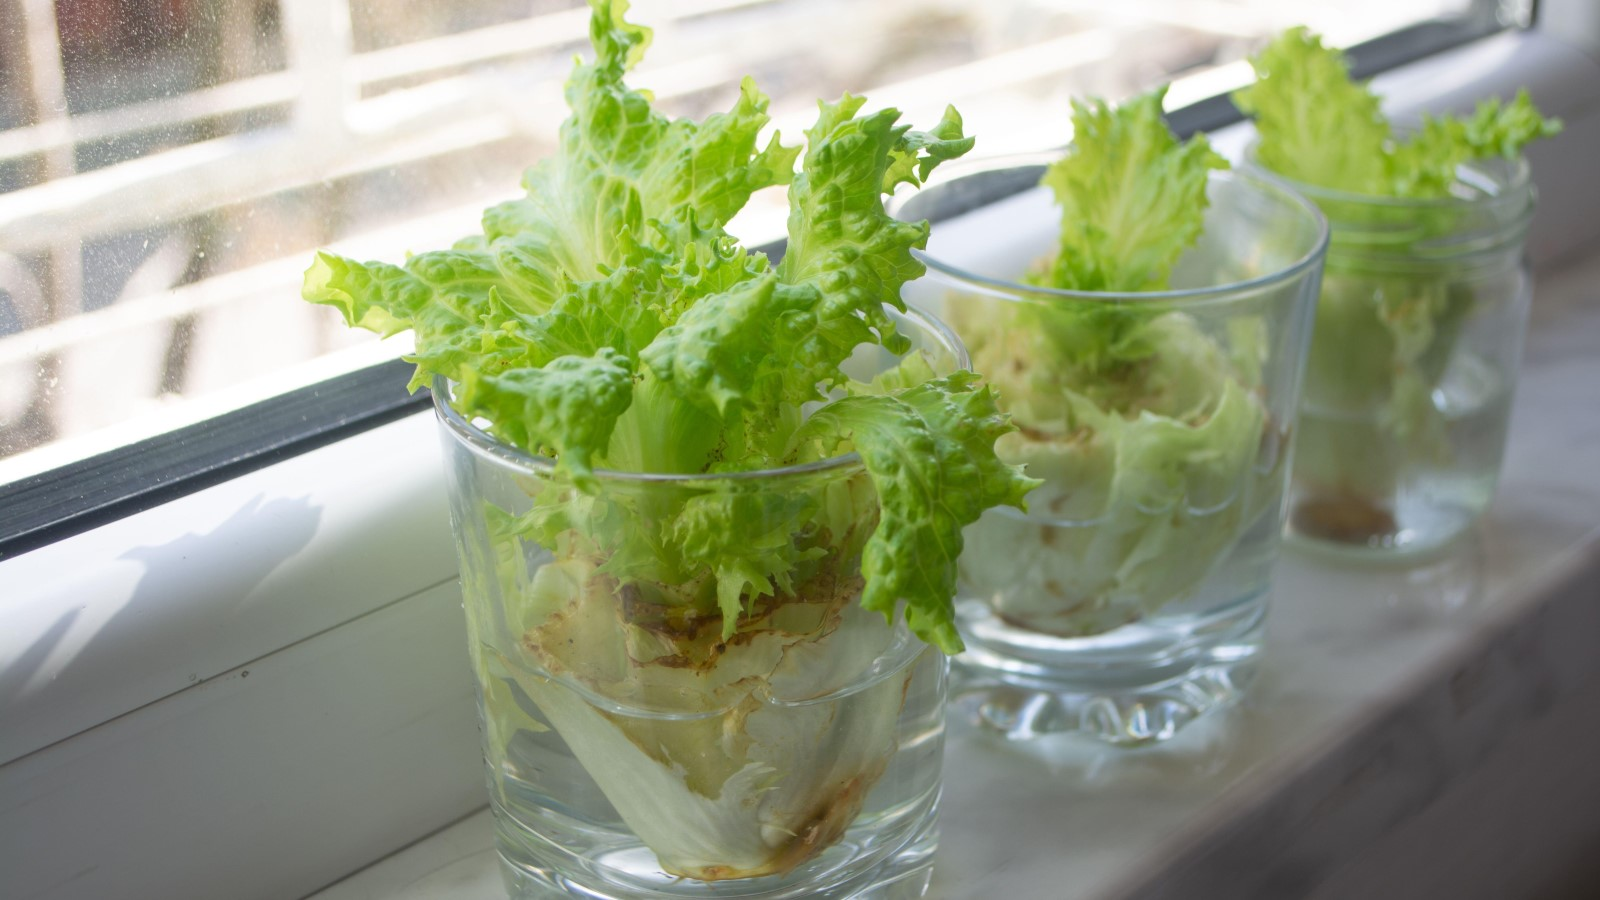lettuce: (304, 27, 1009, 818)
